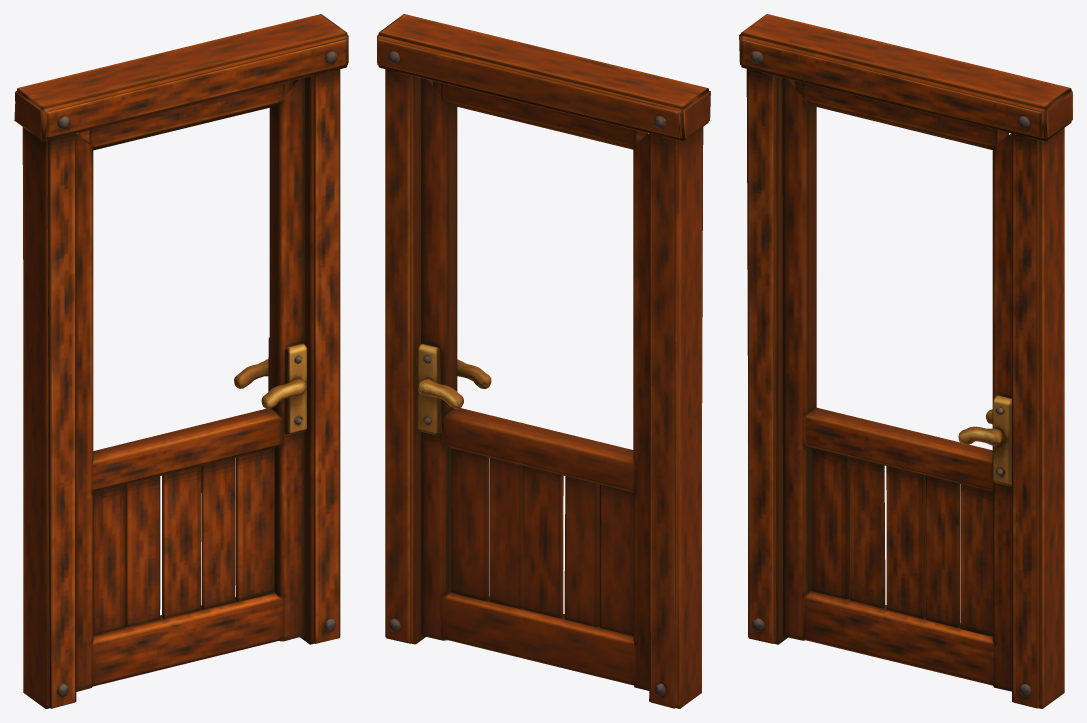
File: HK_door_shop.glb
The picture shows the model from 3 angles, left to right: view 1: azimuth 30°, elevation 25°; view 2: azimuth 150°, elevation 25°; view 3: azimuth 330°, elevation 25°; orthographic projection.
Parts seen in each view (by area): view 1: geometry_0; view 2: geometry_0; view 3: geometry_0.
Part boxes in pixels (box(x1,y1,x2,y2)): geometry_0: box(14, 14, 348, 708); geometry_0: box(377, 14, 710, 708); geometry_0: box(739, 14, 1072, 708).
Size of the model in its own units: 0.5083 by 0.9517 by 0.1045.
1 material, 1 textured.
